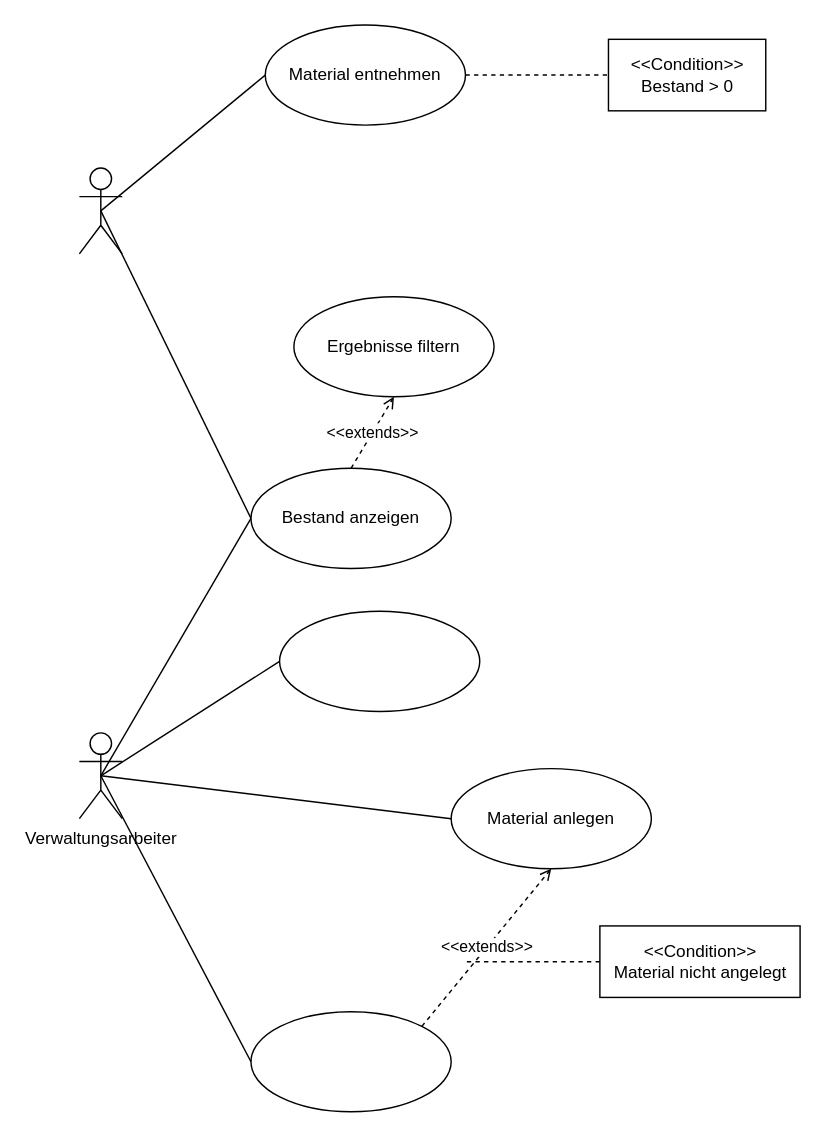
The diagram is 825 pixels wide and 1137 high, and some of its shapes have lost their labels. The shapes that lost their labels are listed below. From the top down, each one's box as (x1, y1, x2, y2) in pixels, then its label:
(78, 167, 122, 254): Lagerarbeiter
(278, 610, 480, 711): Buchung bearbeiten
(250, 1010, 451, 1112): Material zubuchen
